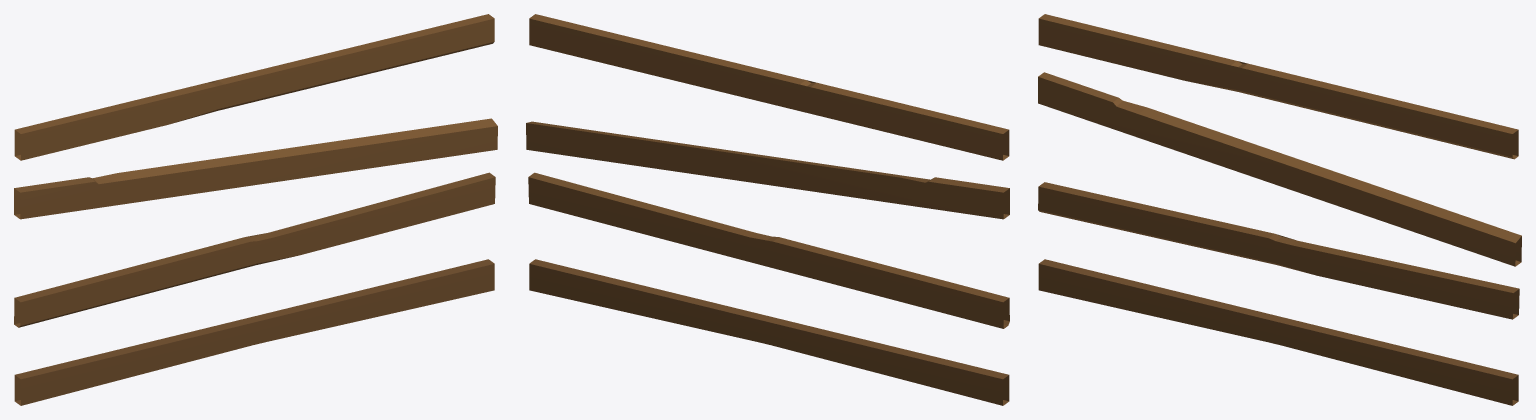
Rendered from Bld_01_Fence_Wood_Worned_01.obj.
3 views of the same model, side by side, from view 1: azimuth 30°, elevation 25°; view 2: azimuth 150°, elevation 25°; view 3: azimuth 330°, elevation 25° (orthographic).
Visible parts, largest first — view 1: Bld_01_Fence_Wood_Worned_01; view 2: Bld_01_Fence_Wood_Worned_01; view 3: Bld_01_Fence_Wood_Worned_01.
Part boxes in pixels (x1,y1,x2,y2): Bld_01_Fence_Wood_Worned_01: (14,14,497,405); Bld_01_Fence_Wood_Worned_01: (526,14,1009,405); Bld_01_Fence_Wood_Worned_01: (1038,14,1521,405).
Size of the model in its own units: 1.81 by 0.9865 by 0.0408.
1 material, 1 textured.
